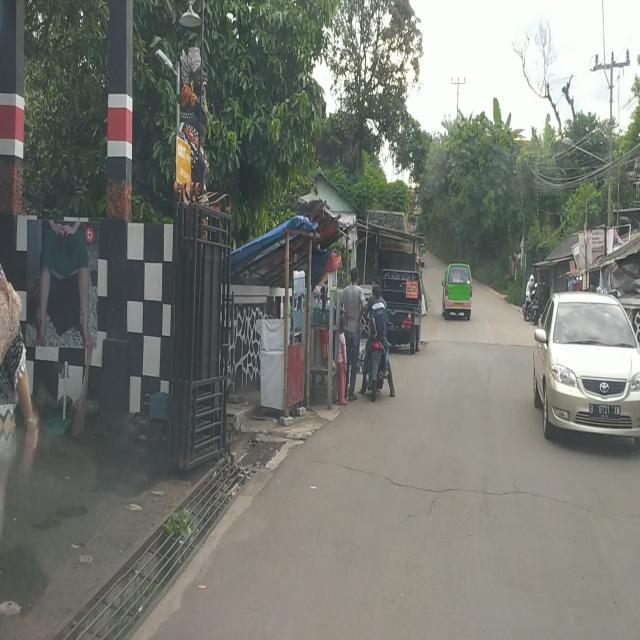Sewer Cover: (309, 457, 626, 512)
